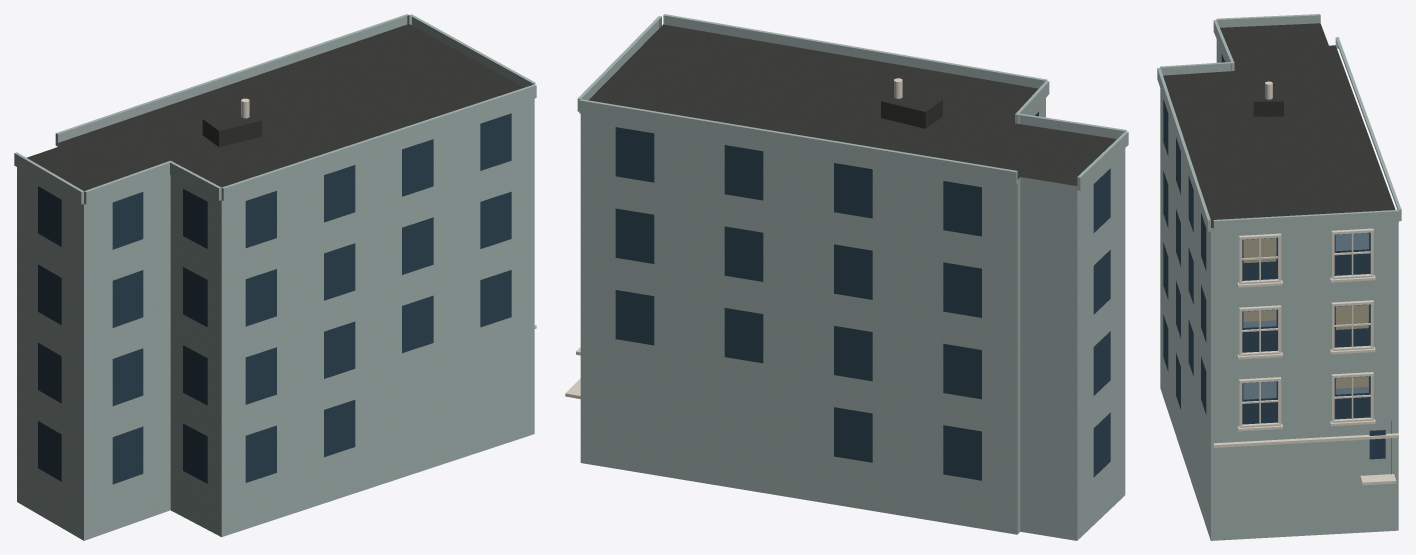
3 views of the same model, side by side, from view 1: azimuth 30°, elevation 25°; view 2: azimuth 150°, elevation 25°; view 3: azimuth 270°, elevation 25° (orthographic). The views are drawn at different scales.
Visible parts, largest first — view 1: Footprint 0 / surface 2, Inset glazing, Footprint 0 / surface 1, Facade bay volumes, Inferred rooftop service enclosure / surface 5, Inferred rooftop service enclosure / surface 3; view 2: Footprint 0 / surface 2, Footprint 0 / surface 1, Inset glazing, Facade bay volumes, Inferred rooftop service enclosure / surface 6, Inferred rooftop service enclosure / surface 3; view 3: Footprint 0 / surface 2, Footprint 0 / surface 1, Inset glazing, Cornices and window frames, Facade bay volumes, Interior blind variation, Sky reflection panels, Inferred rooftop service enclosure / surface 1, Inferred rooftop service enclosure / surface 3.
Part boxes in pixels (x1,y1,x2,y2): Footprint 0 / surface 2: (17, 98, 534, 540); Inset glazing: (38, 113, 511, 484); Footprint 0 / surface 1: (27, 24, 523, 190); Facade bay volumes: (14, 14, 536, 204); Inferred rooftop service enclosure / surface 5: (219, 120, 261, 147); Inferred rooftop service enclosure / surface 3: (203, 109, 261, 130); Footprint 0 / surface 2: (580, 98, 1125, 540); Footprint 0 / surface 1: (589, 24, 1116, 185); Inset glazing: (615, 111, 1110, 480); Facade bay volumes: (577, 14, 1128, 190); Inferred rooftop service enclosure / surface 6: (881, 101, 925, 128); Inferred rooftop service enclosure / surface 3: (881, 90, 942, 111); Footprint 0 / surface 2: (1160, 39, 1398, 540); Footprint 0 / surface 1: (1163, 23, 1395, 227); Inset glazing: (1163, 54, 1385, 459); Cornices and window frames: (1213, 228, 1398, 485); Facade bay volumes: (1157, 14, 1401, 232); Interior blind variation: (1243, 238, 1368, 388); Sky reflection panels: (1243, 233, 1368, 399); Inferred rooftop service enclosure / surface 1: (1253, 101, 1283, 116); Inferred rooftop service enclosure / surface 3: (1253, 82, 1283, 101).
Size of the model in its own units: 19.49 by 14.97 by 9.67.
